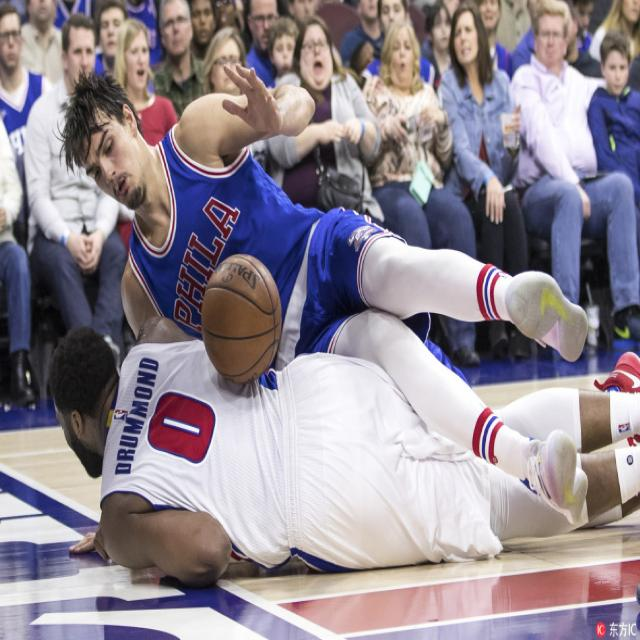10-: (3, 0, 639, 548)
down: (40, 294, 639, 584), (57, 56, 587, 372)
